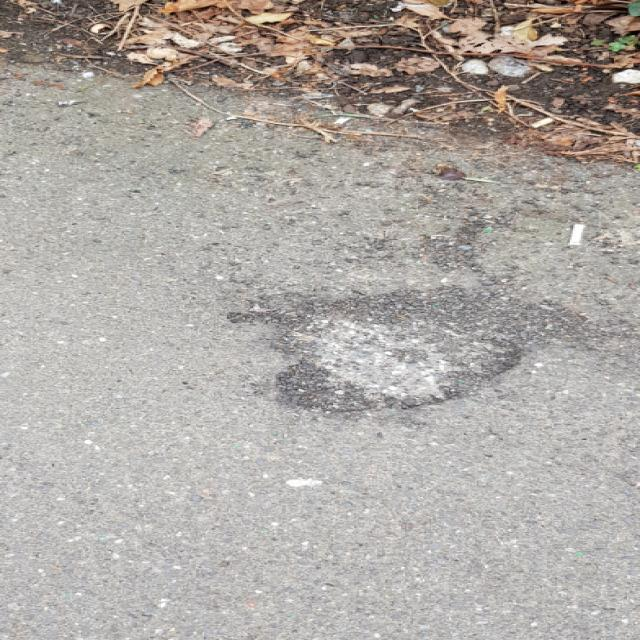pothole: (235, 282, 531, 416)
